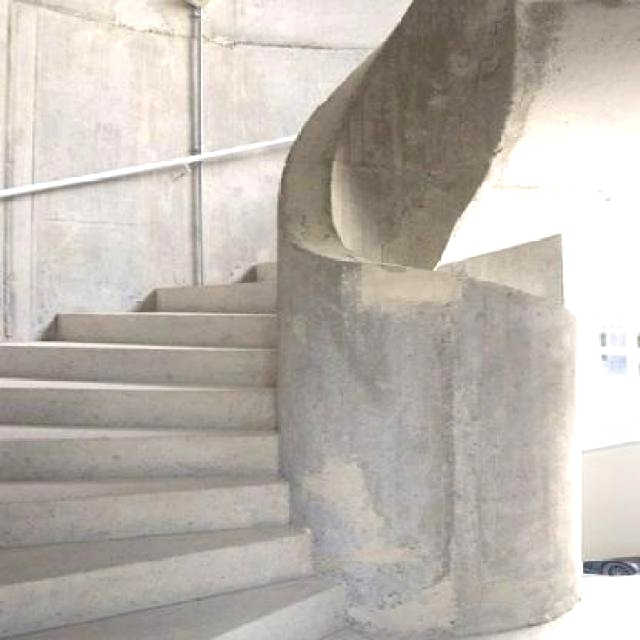stair: (2, 147, 480, 639)
